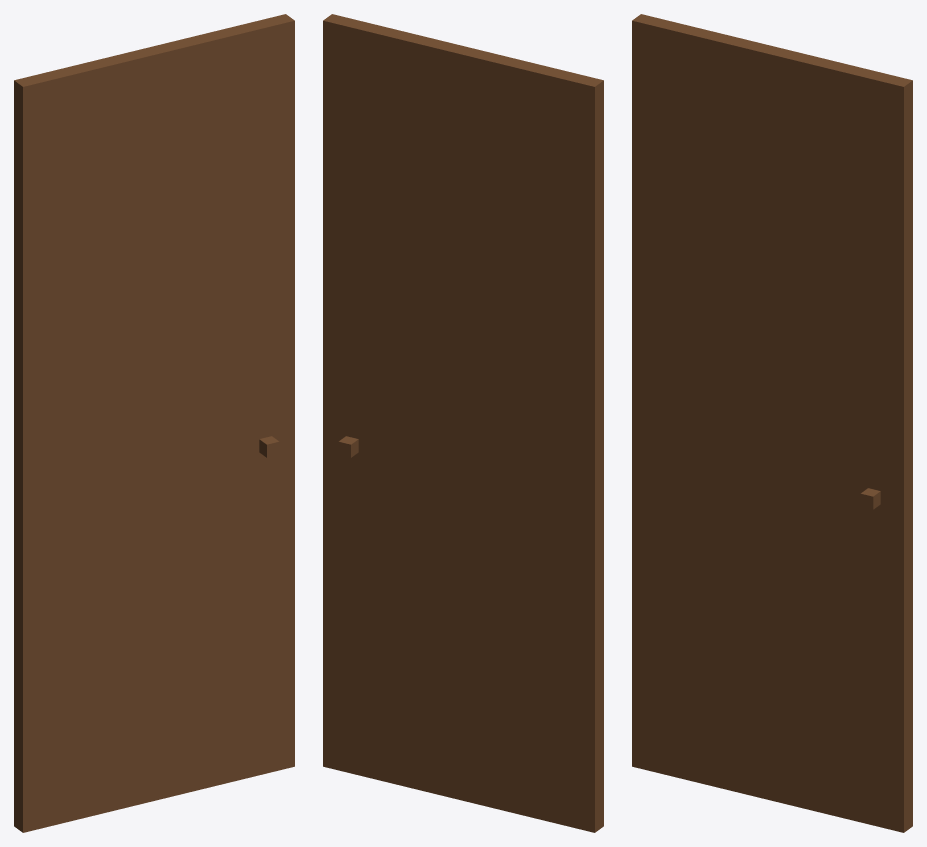
The model's file is door-master.glb.
The picture shows the model from 3 angles, left to right: view 1: azimuth 30°, elevation 25°; view 2: azimuth 150°, elevation 25°; view 3: azimuth 330°, elevation 25°; orthographic projection.
Parts seen in each view (by area): view 1: door-master; view 2: door-master; view 3: door-master.
Part boxes in pixels (x1=…): door-master: x1=14, y1=14, x2=294, y2=832; door-master: x1=323, y1=14, x2=603, y2=832; door-master: x1=632, y1=14, x2=912, y2=832.
Size of the model in its own units: 2.59 by 6.79 by 0.4.
